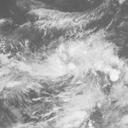cyclone: (41, 42, 110, 102)
